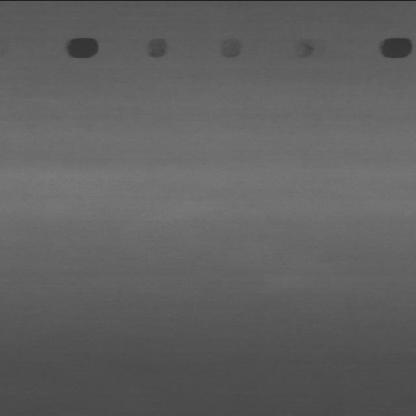oil_spot: (378, 33, 415, 60), (62, 37, 101, 59), (221, 39, 250, 60), (294, 38, 318, 62), (147, 38, 170, 58)
